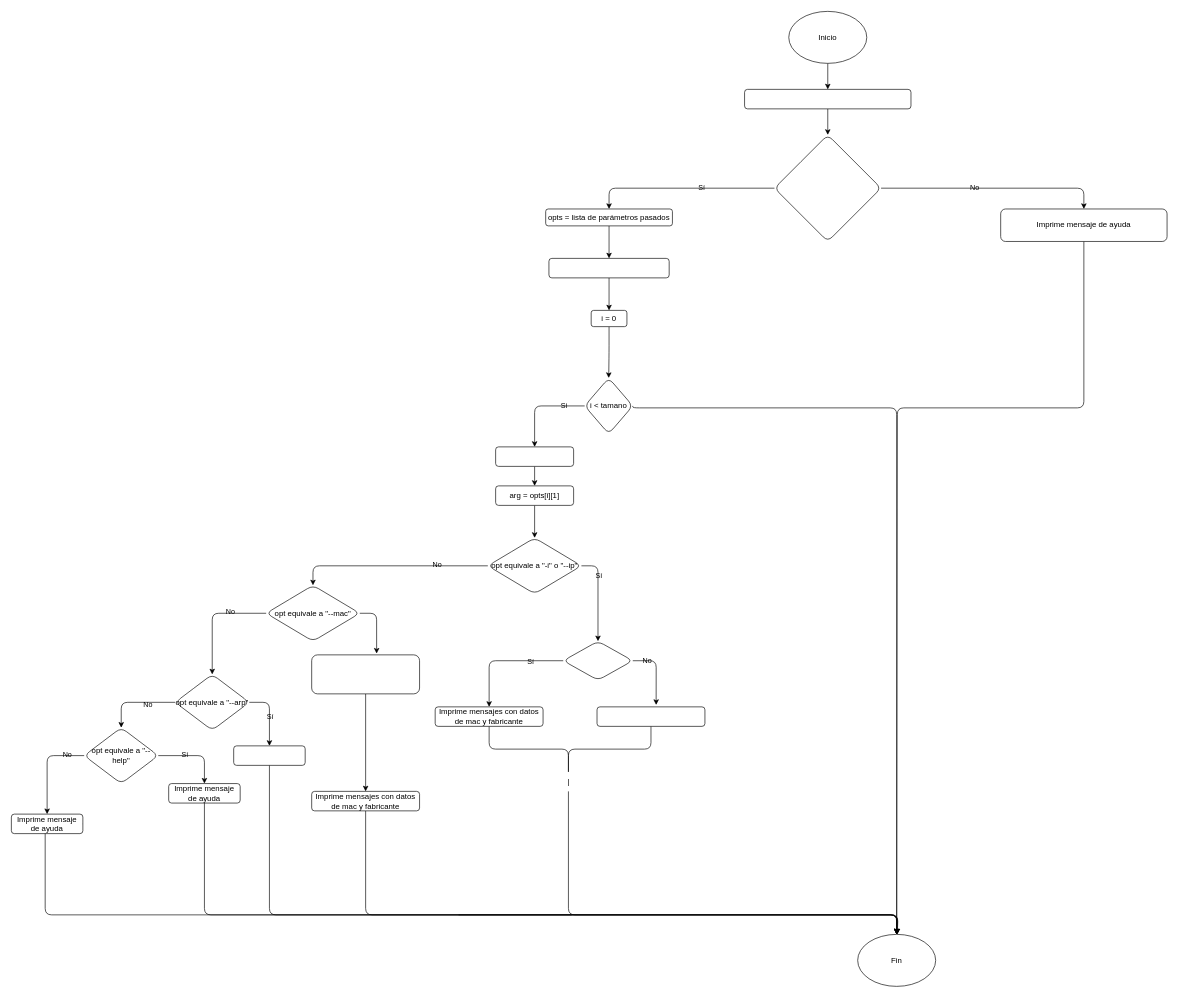
The diagram is 1178 pixels wide and 998 high, and some of its shapes have lost their labels. Here are the shapes that lost their labels. From the top down, the centre of each, then its label:
At pixel 827 99: "db = base de datos parametrizada".
At pixel 827 187: "¿Es o son correctos los parámetros pasados?".
At pixel 608 268: "tamano = largo(opts)".
At pixel 534 456: "opt = opts[i][0]".
At pixel 365 674: "Envía una petición a la API de MacLookup para consultar el fabricante".
At pixel 598 660: "¿pertenece a la red local?".
At pixel 650 716: "Imprime mensaje que no pertenece a la red local".
At pixel 269 755: "Imprime tabla ARP".
